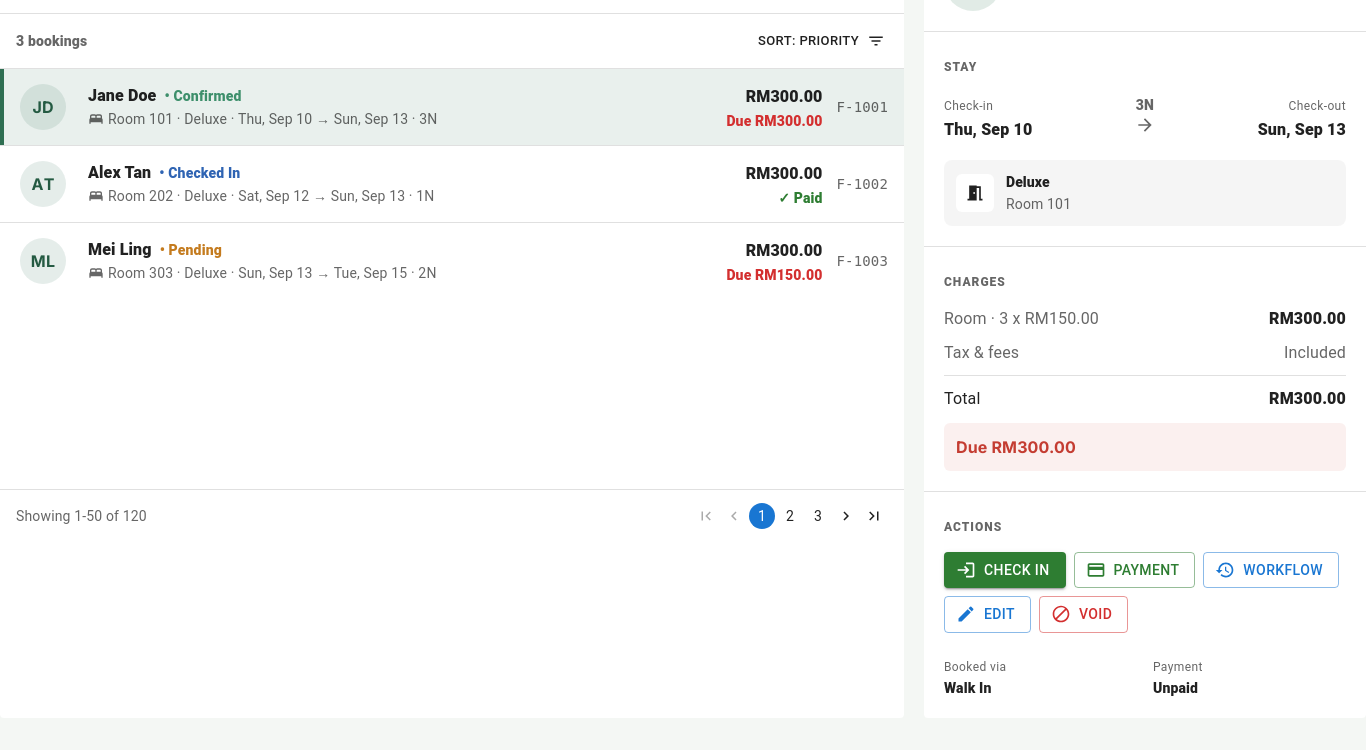
Test: BookingsPage › permission gating › shows the admin-only Edit control, fetches booking channels, and enables active companies once Edit opens the dialog
(page scrolled)
Click the button "Edit" at (987, 614), box 944,596 -> 1031,633
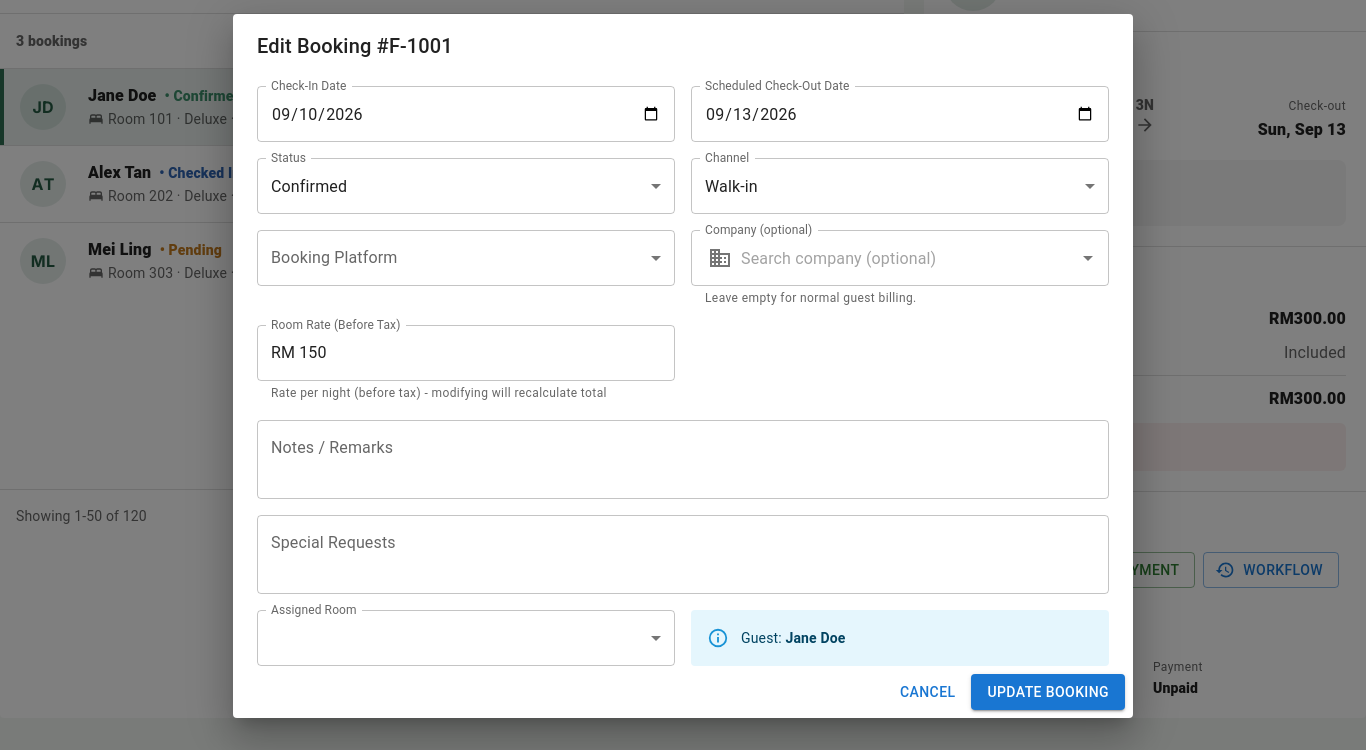
Result: the heading "Edit Booking #F-1001" is shown at 257,34 -> 453,58
